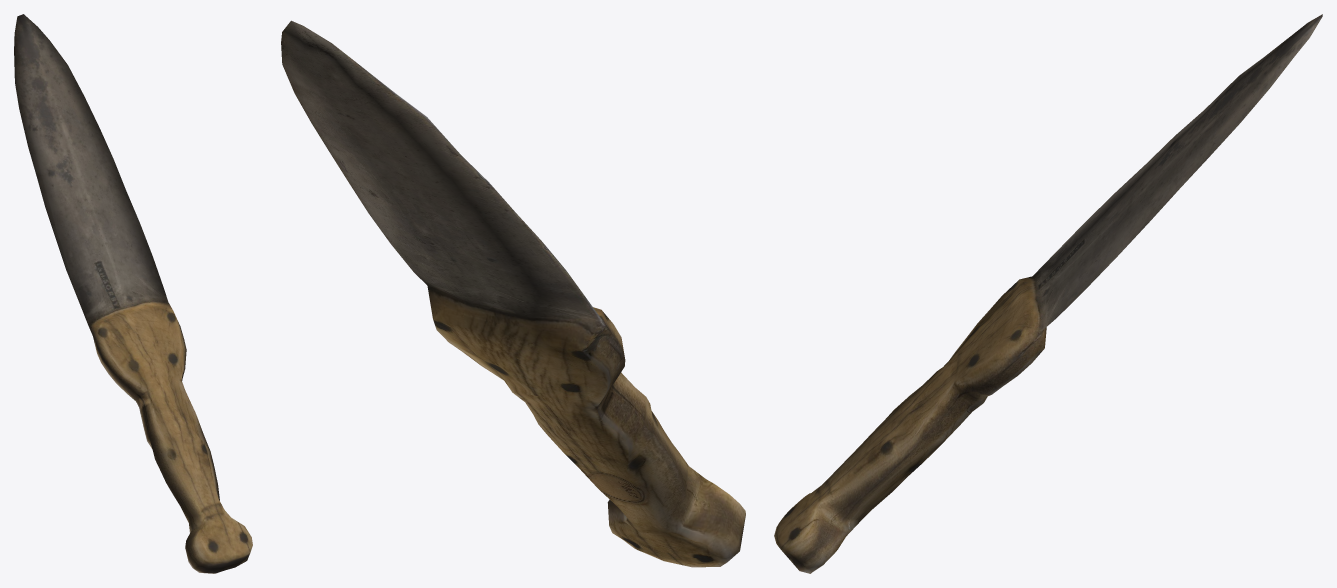
The model's file is knife.glb.
3 renders of one model, left to right at view 1: azimuth 30°, elevation 25°; view 2: azimuth 150°, elevation 25°; view 3: azimuth 270°, elevation 25°, orthographic. The views are drawn at different scales.
Parts seen in each view (by area): view 1: knife; view 2: knife; view 3: knife.
Part boxes in pixels (bbox=[...]): knife: bbox=[14, 14, 252, 573]; knife: bbox=[281, 20, 745, 567]; knife: bbox=[774, 14, 1322, 573].
Size of the model in its own units: 1.21 by 5.4 by 4.9.
1 material, 1 textured.
